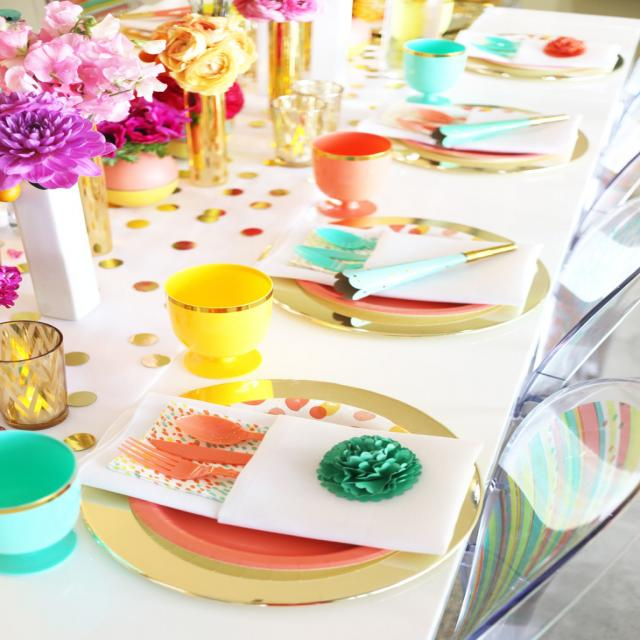non-organic waste: (77, 372, 475, 619), (252, 174, 540, 368), (392, 64, 593, 192)
